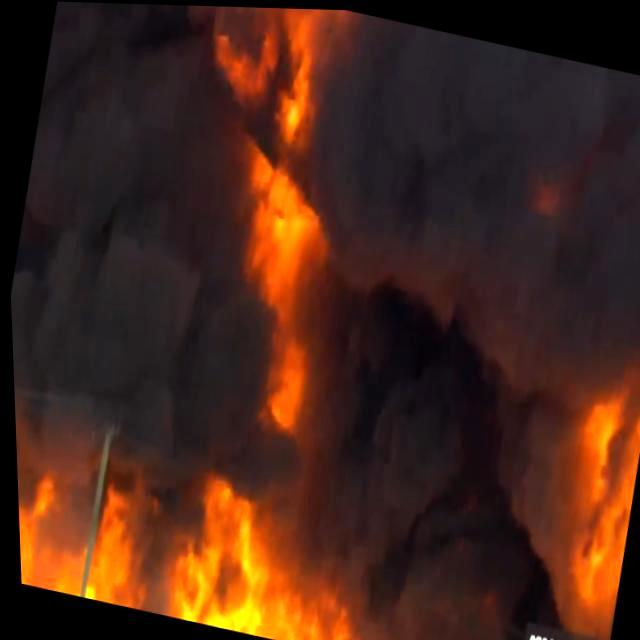fire: (11, 403, 360, 640)
